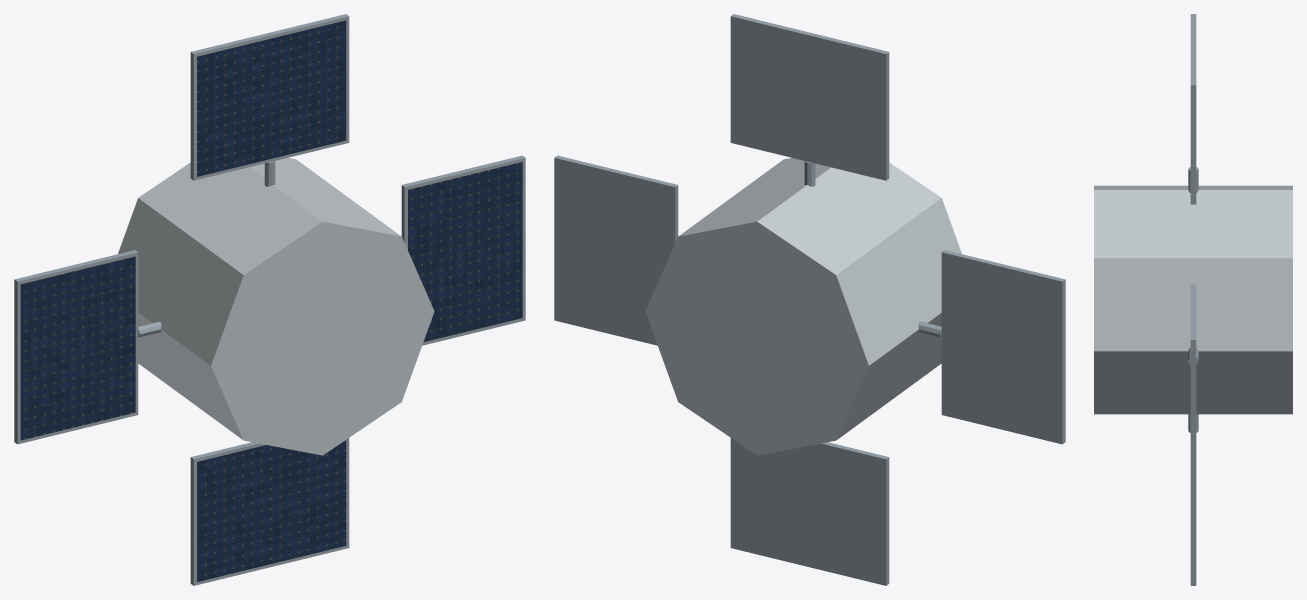
Rendered from ref-astro-12307.glb.
3 views of the same model, side by side, from view 1: azimuth 30°, elevation 25°; view 2: azimuth 150°, elevation 25°; view 3: azimuth 270°, elevation 25° (orthographic). The views are drawn at different scales.
Parts seen in each view (by area): view 1: Photovoltaic laminates (×4), Spacecraft body, Array frame (×4); view 2: Array frame (×4), Spacecraft body; view 3: Spacecraft body, Array frame (×3).
Boxes of the visible parts, <box> form: Photovoltaic laminates (×4): <box>20,20,522,581</box>; Spacecraft body: <box>118,158,434,455</box>; Array frame (×4): <box>14,14,525,585</box>; Array frame (×4): <box>554,14,1065,585</box>; Spacecraft body: <box>645,158,961,455</box>; Spacecraft body: <box>1094,185,1292,414</box>; Array frame (×3): <box>1190,14,1196,585</box>.
Size of the model in its own units: 2.5 by 2.5 by 0.9.
Materials: 3 (1 with a texture image).
